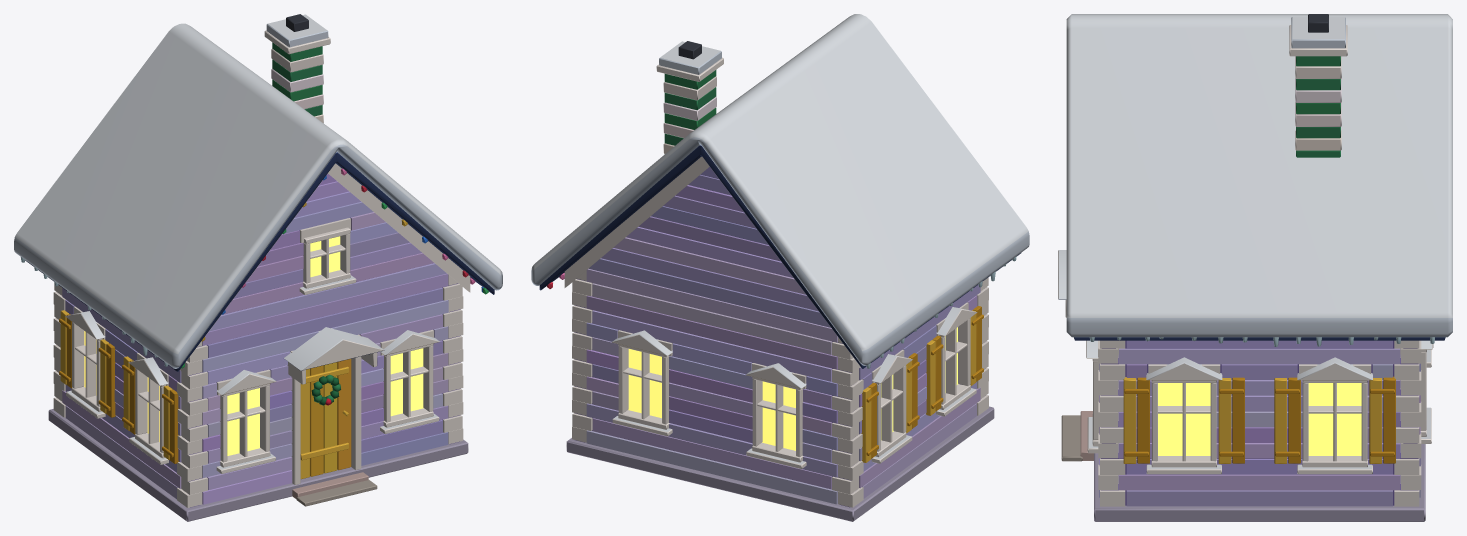
File: CandyHouse_Lavender.glb
3 views of the same model, side by side, from view 1: azimuth 30°, elevation 25°; view 2: azimuth 150°, elevation 25°; view 3: azimuth 270°, elevation 25° (orthographic). The views are drawn at different scales.
Visible parts, largest first — view 1: CandyHouse_Lavender_Roof, CandyHouse_Lavender_Walls, CandyHouse_Lavender_Trim, CandyHouse_Lavender_Door, CandyHouse_Lavender_Foundation, CandyHouse_Lavender_Chimney, CandyHouse_Lavender_Glow; view 2: CandyHouse_Lavender_Roof, CandyHouse_Lavender_Walls, CandyHouse_Lavender_Trim, CandyHouse_Lavender_Foundation, CandyHouse_Lavender_Chimney, CandyHouse_Lavender_Glow; view 3: CandyHouse_Lavender_Roof, CandyHouse_Lavender_Walls, CandyHouse_Lavender_Trim, CandyHouse_Lavender_Chimney, CandyHouse_Lavender_Glow, CandyHouse_Lavender_Foundation, CandyHouse_Lavender_Door.
Part boxes in pixels (left/top/right/bottom): CandyHouse_Lavender_Roof: left=14, top=23, right=502, bottom=371; CandyHouse_Lavender_Walls: left=53, top=163, right=470, bottom=507; CandyHouse_Lavender_Trim: left=59, top=227, right=439, bottom=473; CandyHouse_Lavender_Door: left=284, top=327, right=384, bottom=506; CandyHouse_Lavender_Foundation: left=48, top=409, right=468, bottom=521; CandyHouse_Lavender_Chimney: left=264, top=14, right=330, bottom=122; CandyHouse_Lavender_Glow: left=84, top=236, right=423, bottom=455; CandyHouse_Lavender_Roof: left=531, top=14, right=1029, bottom=368; CandyHouse_Lavender_Walls: left=564, top=156, right=988, bottom=507; CandyHouse_Lavender_Trim: left=612, top=306, right=983, bottom=469; CandyHouse_Lavender_Foundation: left=566, top=406, right=994, bottom=521; CandyHouse_Lavender_Chimney: left=656, top=41, right=723, bottom=153; CandyHouse_Lavender_Glow: left=628, top=327, right=957, bottom=450; CandyHouse_Lavender_Roof: left=1066, top=14, right=1452, bottom=346; CandyHouse_Lavender_Walls: left=1098, top=340, right=1421, bottom=506; CandyHouse_Lavender_Trim: left=1086, top=340, right=1433, bottom=474; CandyHouse_Lavender_Chimney: left=1289, top=14, right=1347, bottom=157; CandyHouse_Lavender_Glow: left=1158, top=383, right=1361, bottom=455; CandyHouse_Lavender_Foundation: left=1094, top=354, right=1425, bottom=521; CandyHouse_Lavender_Door: left=1058, top=250, right=1093, bottom=461.
Bounding box in the file's own units: 24.2 × 26.91 × 20.95.
